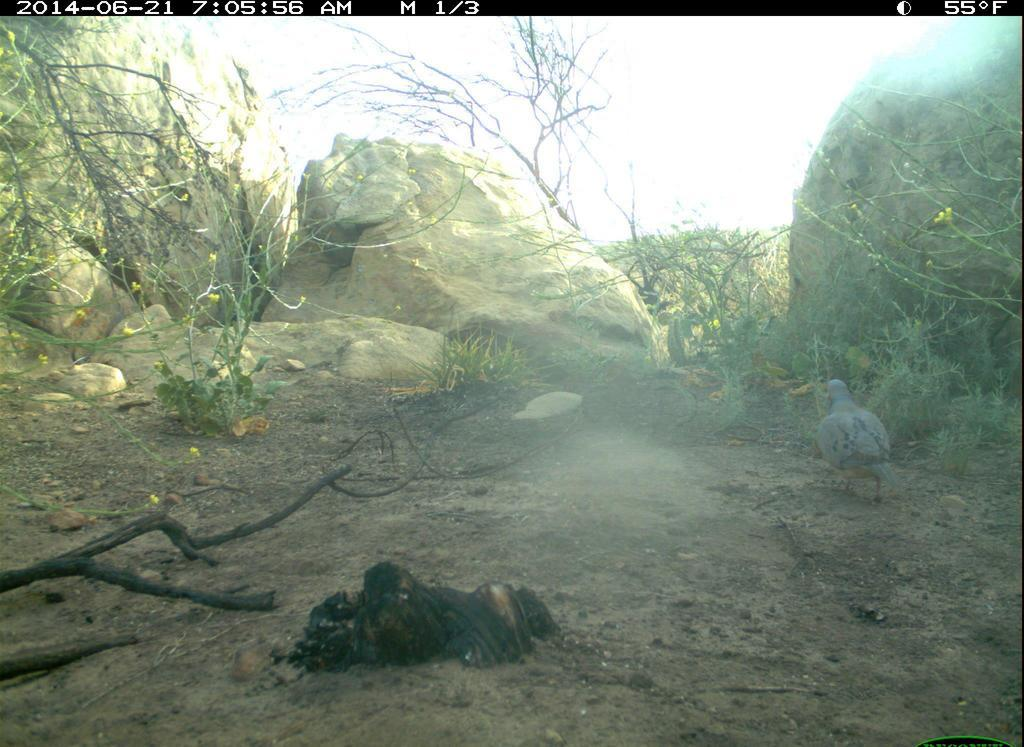bird: (801, 370, 904, 516)
